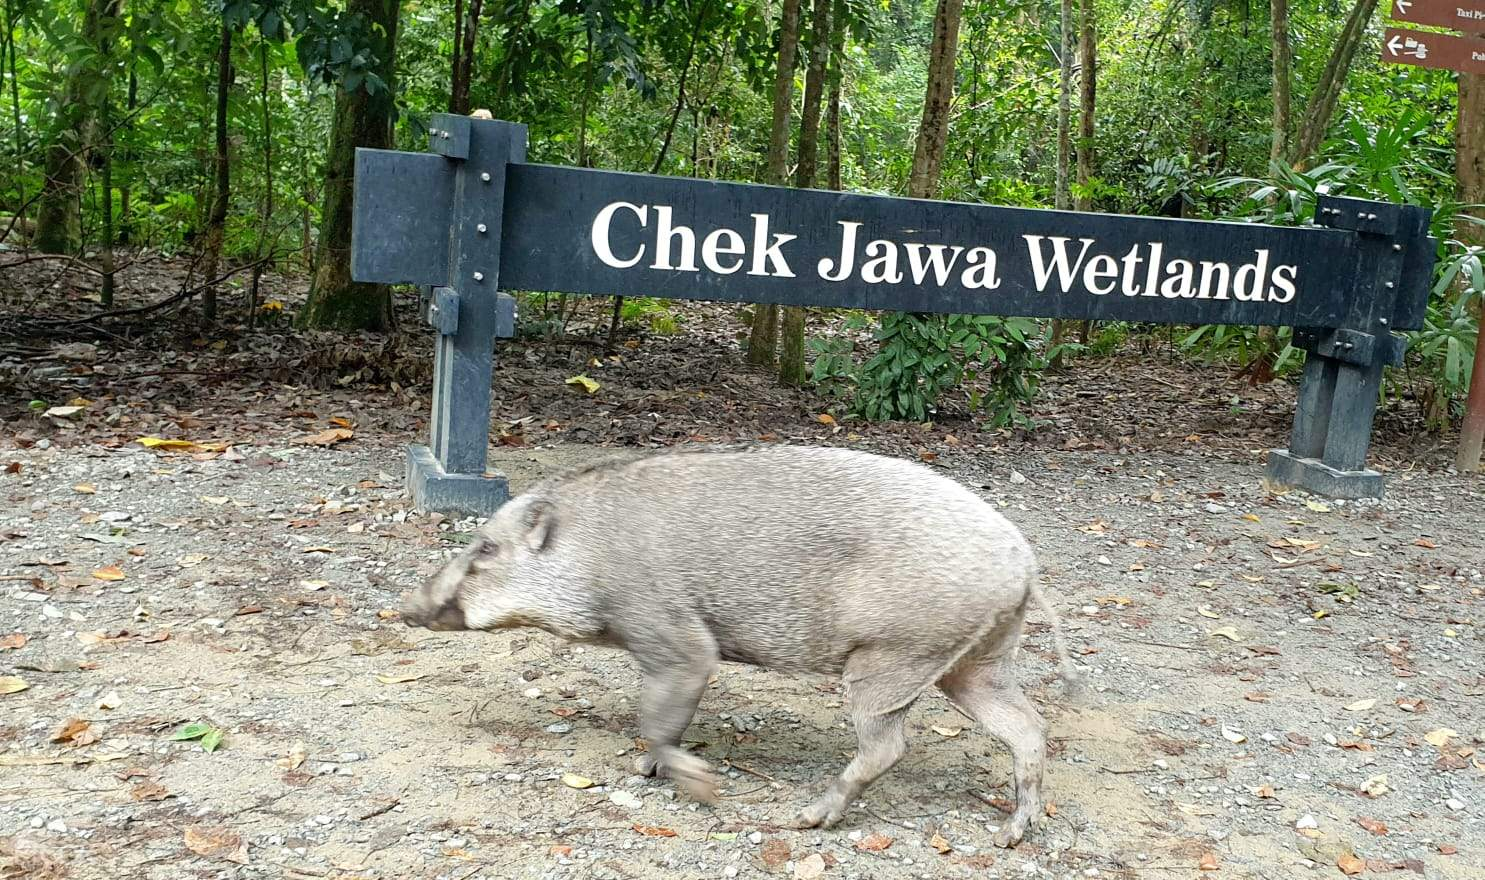boar: (392, 431, 1090, 861)
